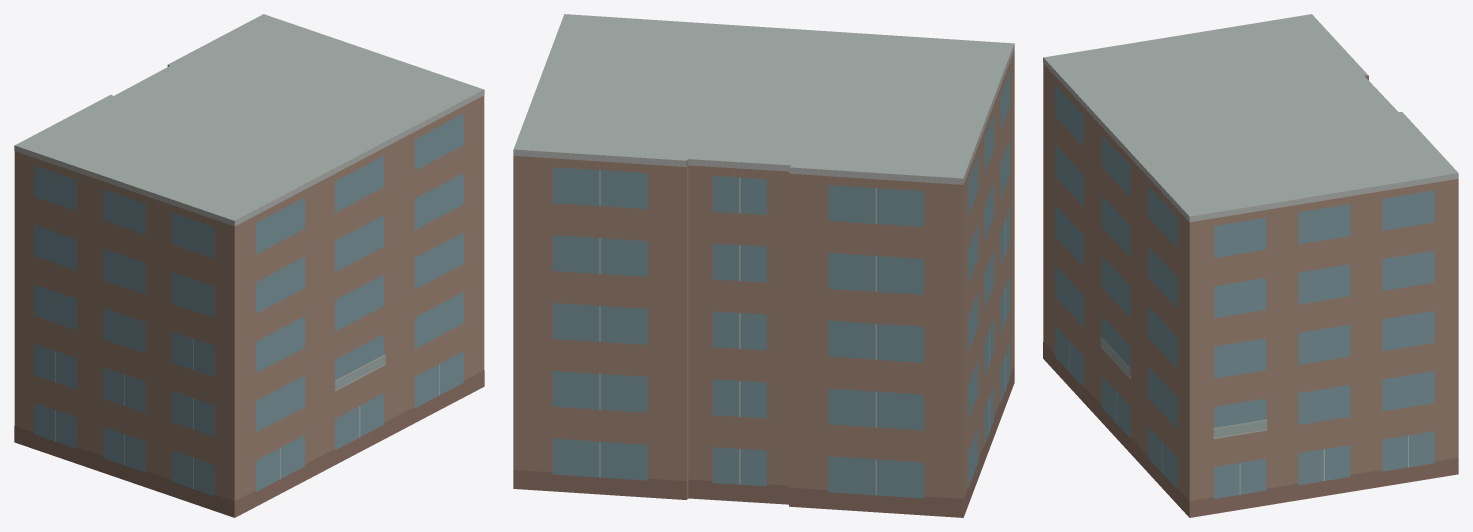
The model's file is survey-upis-32863243.glb.
3 renders of one model, left to right at view 1: azimuth 30°, elevation 25°; view 2: azimuth 150°, elevation 25°; view 3: azimuth 270°, elevation 25°, orthographic. The views are drawn at different scales.
Parts seen in each view (by area): view 1: survey-upis-32863243.tmp; view 2: survey-upis-32863243.tmp; view 3: survey-upis-32863243.tmp.
Part boxes in pixels (x1,y1,x2,y2): survey-upis-32863243.tmp: (14, 14, 484, 517); survey-upis-32863243.tmp: (513, 14, 1014, 517); survey-upis-32863243.tmp: (1043, 14, 1458, 517).
Size of the model in its own units: 18.92 by 13.1 by 16.39.
